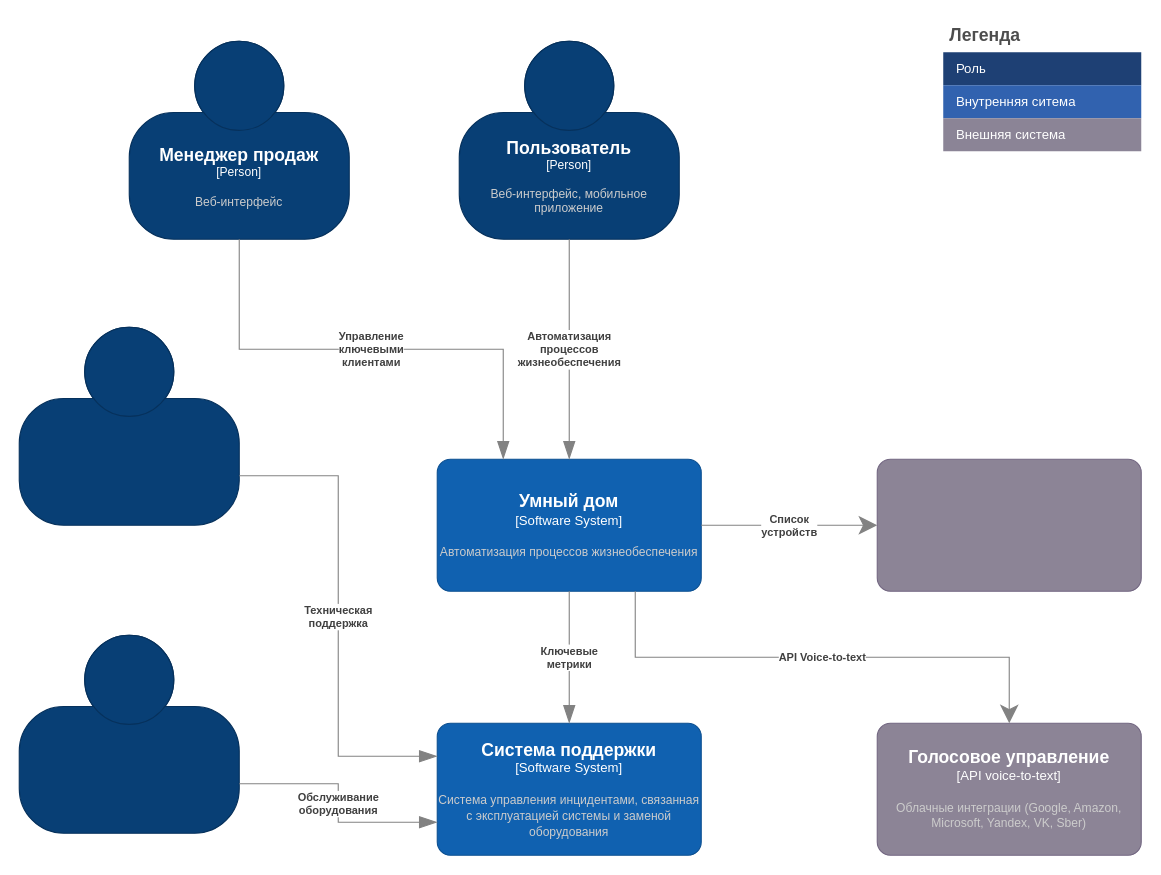
Some shapes in this 1161 by 875 pixel diagram are drawn without their labels. Each missing label, with the centre of its shape:
"Инженер поддержки [Person] Веб-интерфейс" belongs at [128,425].
"Онлайн-магазин [Software System] Система продажи бытовой электроники" belongs at [1008,524].
"Сервис-иженер [Person] Веб-интерфейс" belongs at [128,733].
